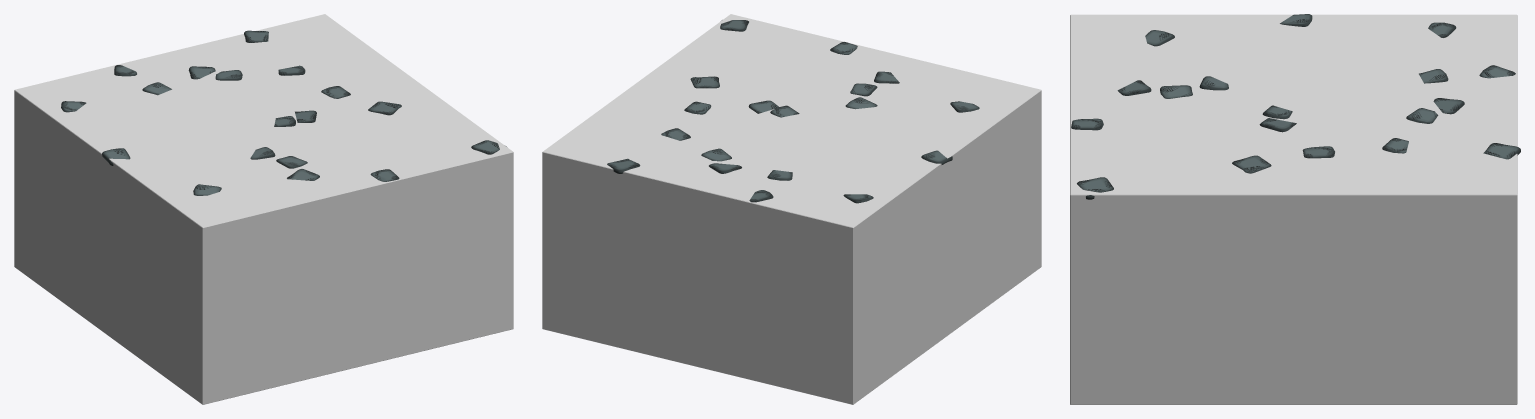
File: ground_block.fbx
The picture shows the model from 3 angles, left to right: view 1: azimuth 30°, elevation 25°; view 2: azimuth 150°, elevation 25°; view 3: azimuth 270°, elevation 25°; orthographic projection. The views are drawn at different scales.
Visible parts, largest first — view 1: RoadPiece_Repeater.002; view 2: RoadPiece_Repeater.002; view 3: RoadPiece_Repeater.002.
Part boxes in pixels (bbox=[...]): RoadPiece_Repeater.002: bbox=[14, 14, 513, 404]; RoadPiece_Repeater.002: bbox=[542, 14, 1041, 404]; RoadPiece_Repeater.002: bbox=[1070, 14, 1520, 404].
Size of the model in its own units: 564 by 308 by 591.
